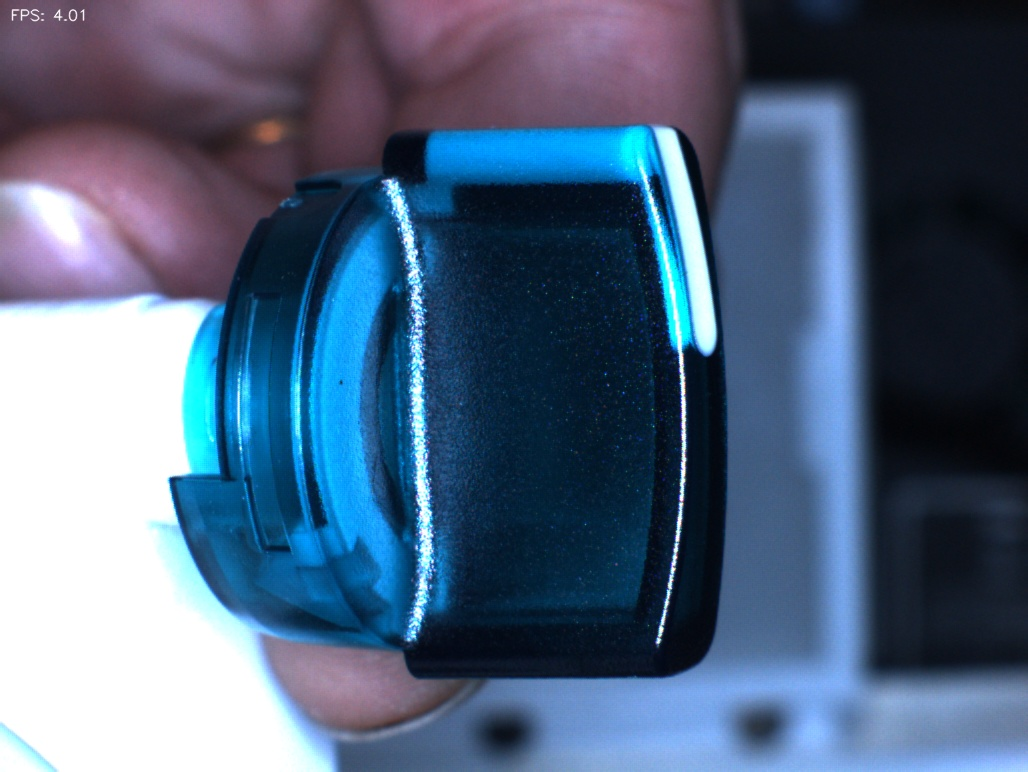PointNoir: (315, 350, 377, 413)
